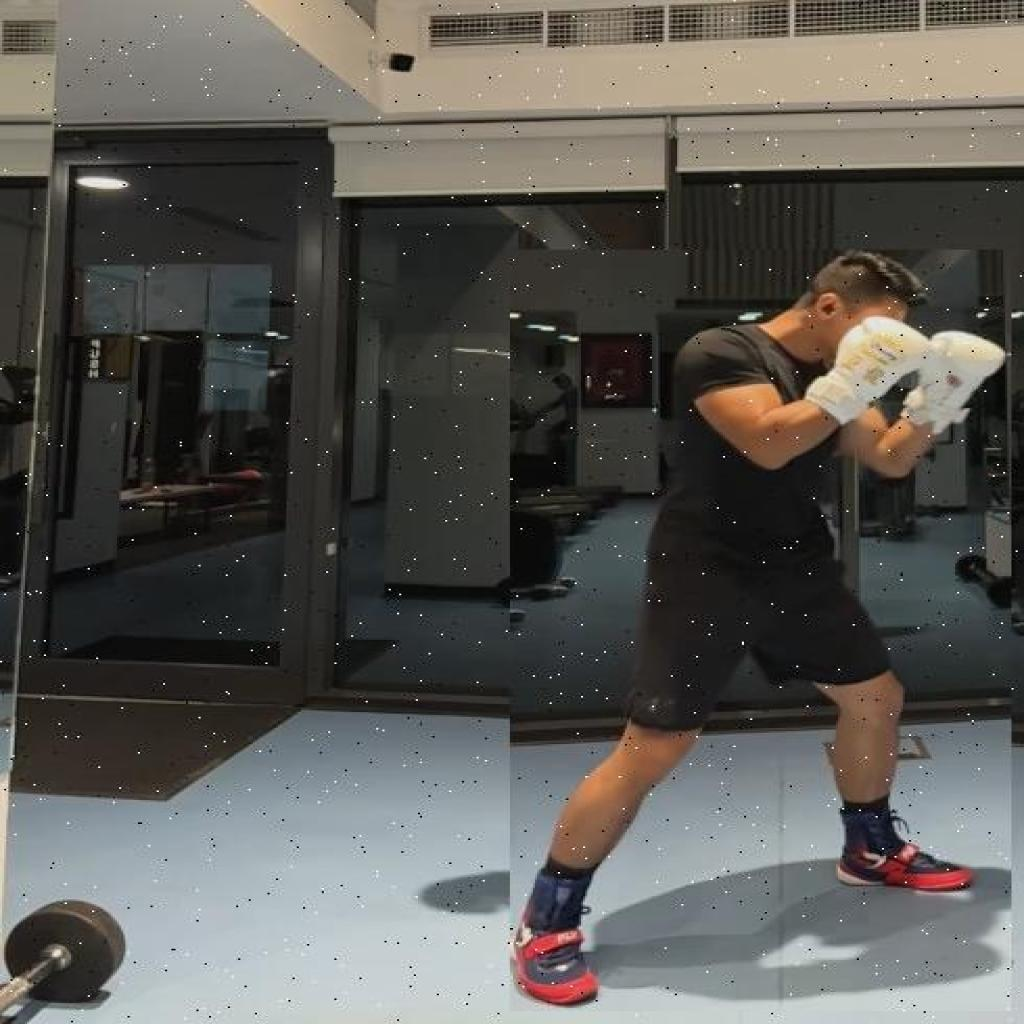no punch: (510, 250, 1012, 1011)
